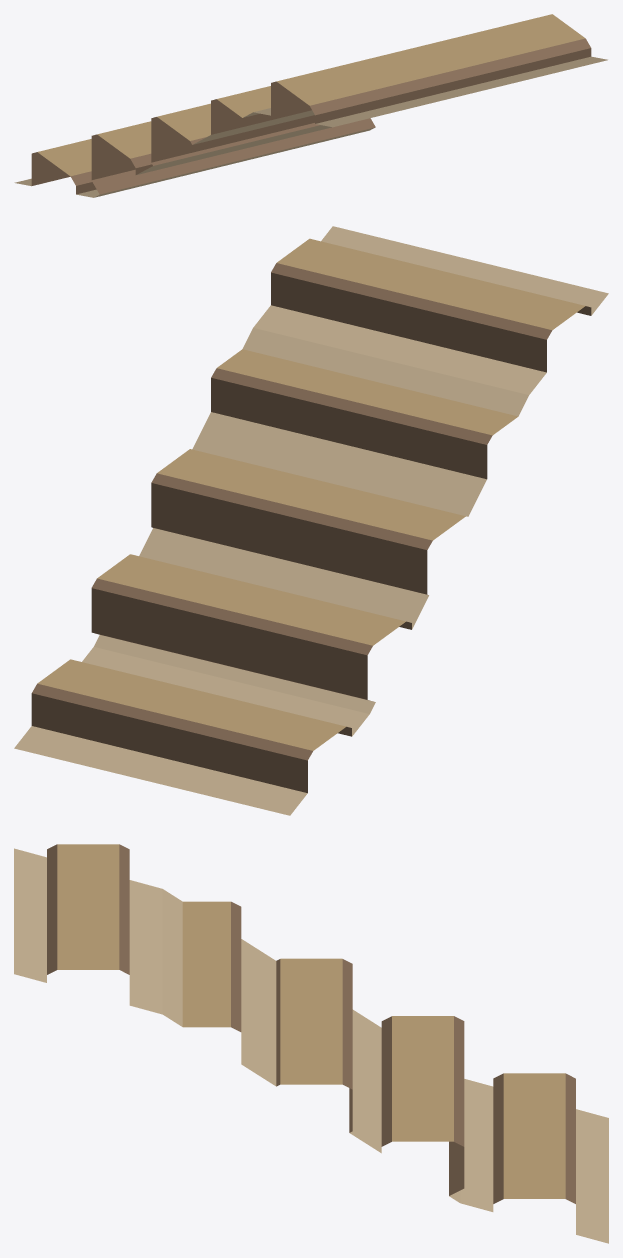
Rendered from Hilly_Terrain_Path_Hill_Sharp_Steps_Center.obj.
3 renders of one model, top to bottom at view 1: azimuth 30°, elevation 25°; view 2: azimuth 150°, elevation 25°; view 3: azimuth 270°, elevation 25°, orthographic. The views are drawn at different scales.
Visible parts, largest first — view 1: object1; view 2: object1; view 3: object1.
Boxes of the visible parts, x1,y1,x2,y2 form: object1: (14, 14, 607, 197); object1: (14, 226, 608, 815); object1: (14, 844, 608, 1243).
Size of the model in its own units: 1 by 1.02 by 2.
